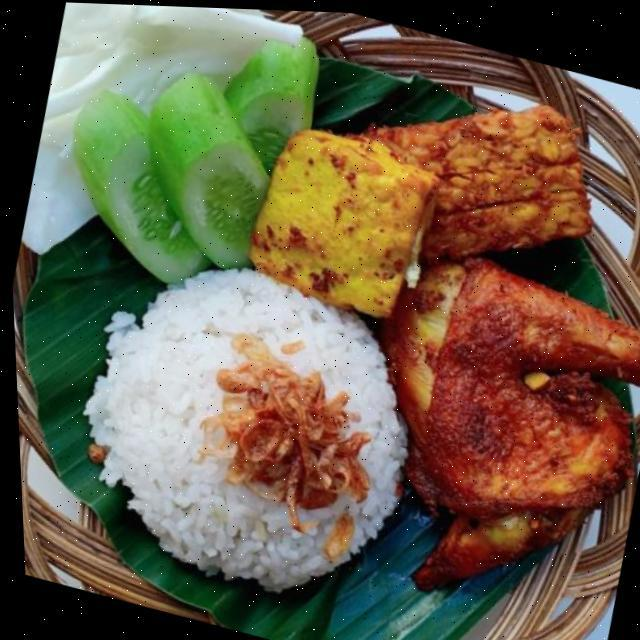ayam goreng: (332, 238, 640, 624)
nasi: (66, 238, 448, 628)
tahu goreng: (244, 122, 442, 328)
tempe goreng: (322, 55, 619, 278)
